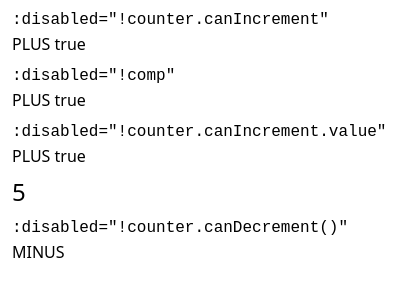
Component: ClickableCounter › Clicking on Decrement button decrement counter
Click the button with test id "decrement-button".
click(38, 252)  # box x1=12 y1=240 x2=65 y2=264
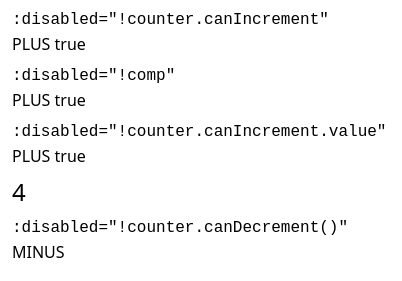
Expected: the text with test id "counter-value" reads "4", x1=12 y1=175 x2=26 y2=208
